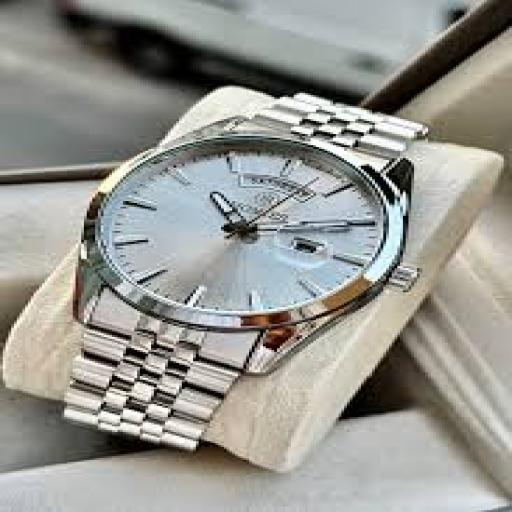KolSaati: (30, 45, 448, 476)
